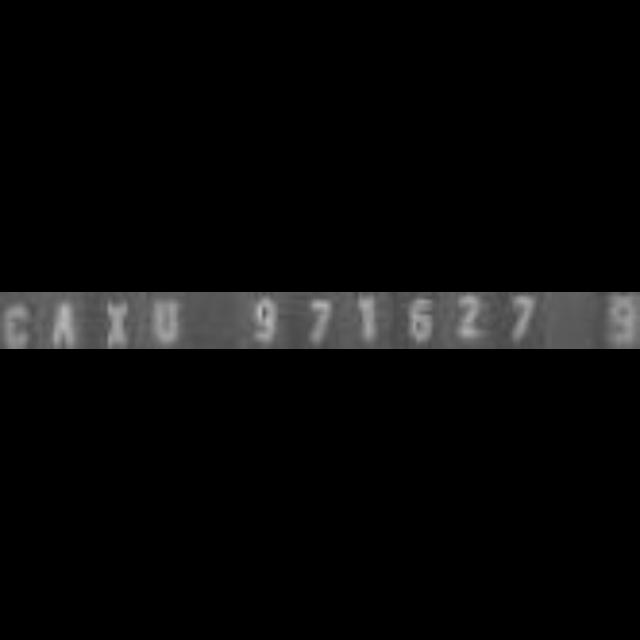1: (351, 292, 383, 348)
2: (452, 292, 490, 348)
6: (404, 292, 436, 348)
7: (502, 292, 540, 348), (303, 292, 339, 348)
9: (245, 292, 288, 348), (604, 292, 640, 348)
a: (45, 294, 81, 348)
c: (0, 292, 38, 348)
u: (146, 293, 190, 349)
x: (100, 292, 140, 348)
